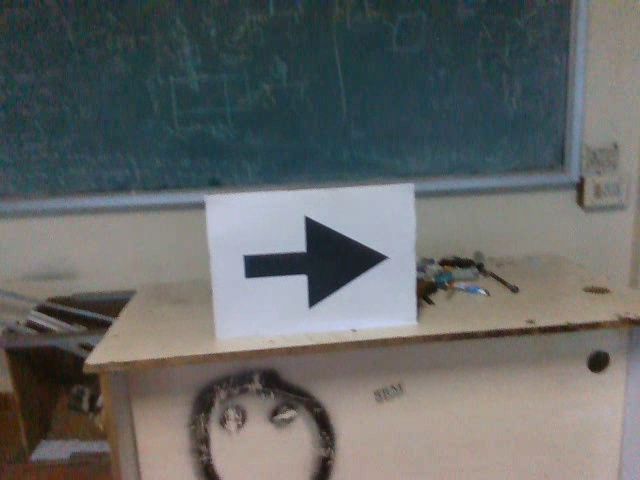Right: (224, 210, 390, 314)
